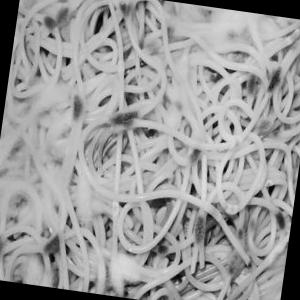pasta: (0, 2, 295, 300)
